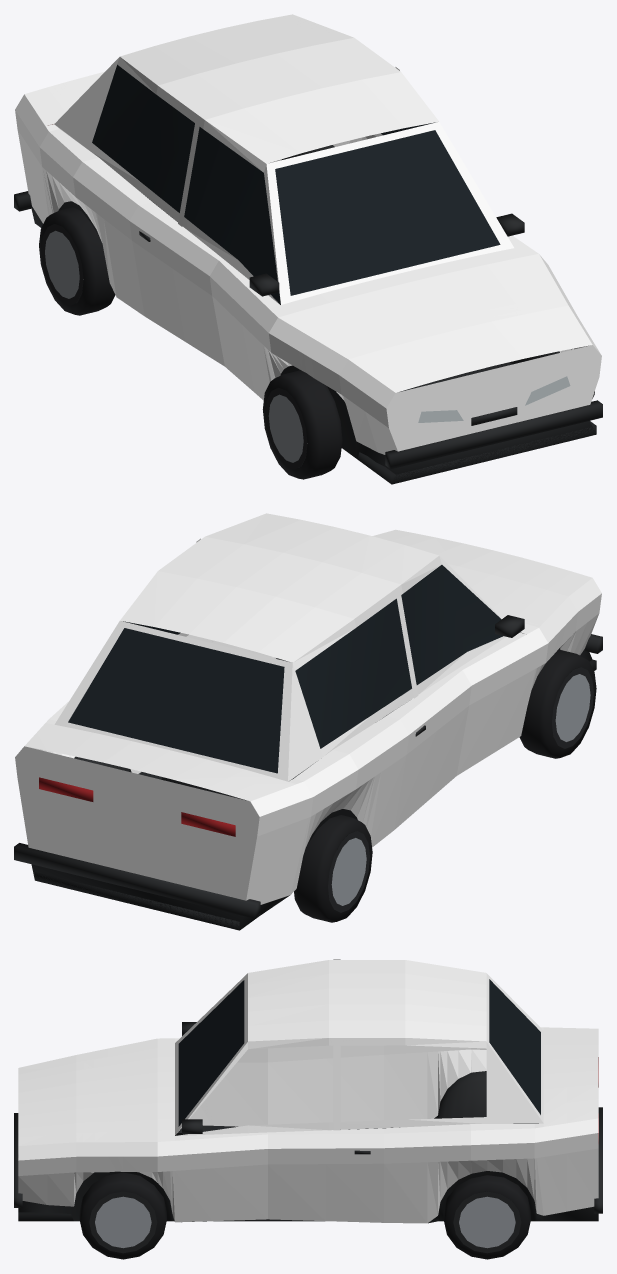
File: tomoe_avenca.glb
3 views of the same model, one above another, from view 1: azimuth 30°, elevation 25°; view 2: azimuth 150°, elevation 25°; view 3: azimuth 270°, elevation 25° (orthographic). The views are drawn at different scales.
Parts seen in each view (by area): view 1: Body_Paint, Body_Details, Mount_FrontLeft_Wheel_Details, Mount_RearLeft_Wheel_Details; view 2: Body_Paint, Body_Details, Mount_RearLeft_Wheel_Details, Mount_FrontLeft_Wheel_Details; view 3: Body_Paint, Body_Details, Mount_FrontRight_Wheel_Details, Mount_RearRight_Wheel_Details.
Boxes of the visible parts, left/top/right/bottom form: Body_Paint: left=15, top=14, right=601, bottom=454; Body_Details: left=14, top=64, right=602, bottom=484; Mount_FrontLeft_Wheel_Details: left=262, top=370, right=342, bottom=479; Mount_RearLeft_Wheel_Details: left=39, top=207, right=115, bottom=315; Body_Paint: left=15, top=513, right=601, bottom=904; Body_Details: left=14, top=565, right=602, bottom=930; Mount_RearLeft_Wheel_Details: left=294, top=815, right=372, bottom=922; Mount_FrontLeft_Wheel_Details: left=519, top=649, right=596, bottom=758; Body_Paint: left=18, top=959, right=598, bottom=1223; Body_Details: left=14, top=979, right=602, bottom=1223; Mount_FrontRight_Wheel_Details: left=79, top=1172, right=166, bottom=1259; Mount_RearRight_Wheel_Details: left=443, top=1175, right=530, bottom=1259.
Size of the model in its own units: 1.69 by 1.45 by 3.7.
2 materials, 1 textured.
